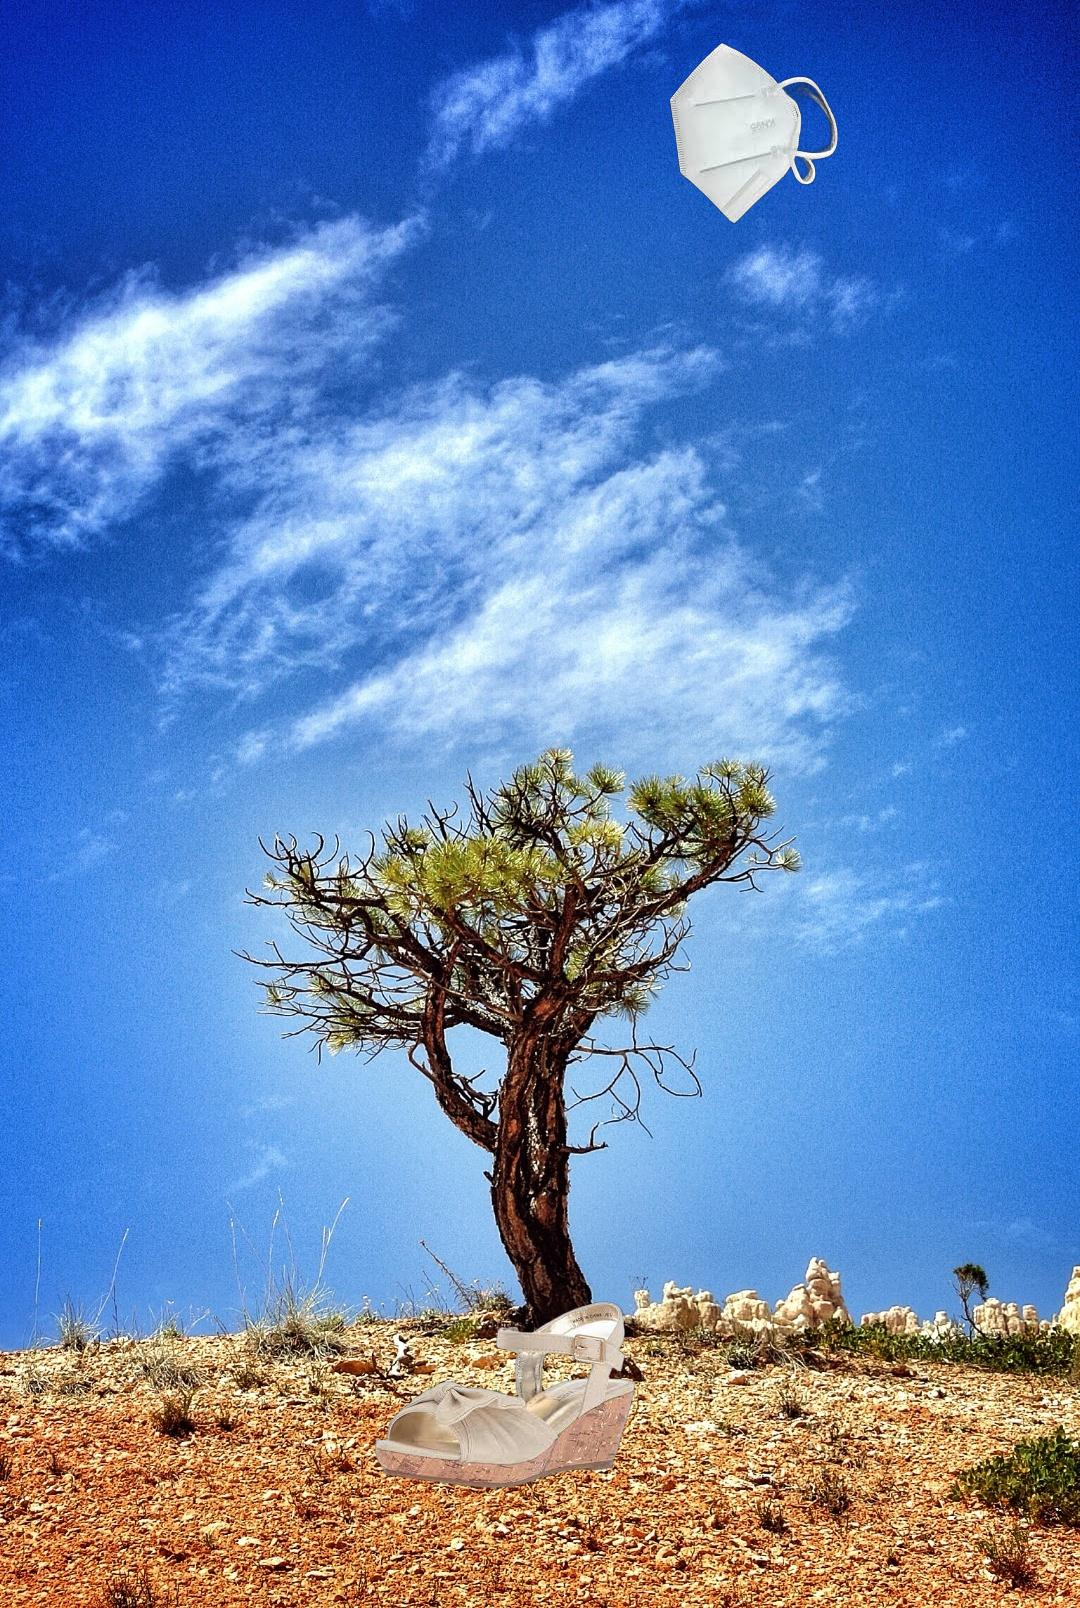shoes: (372, 1299, 638, 1490)
trash: (667, 40, 841, 225)
